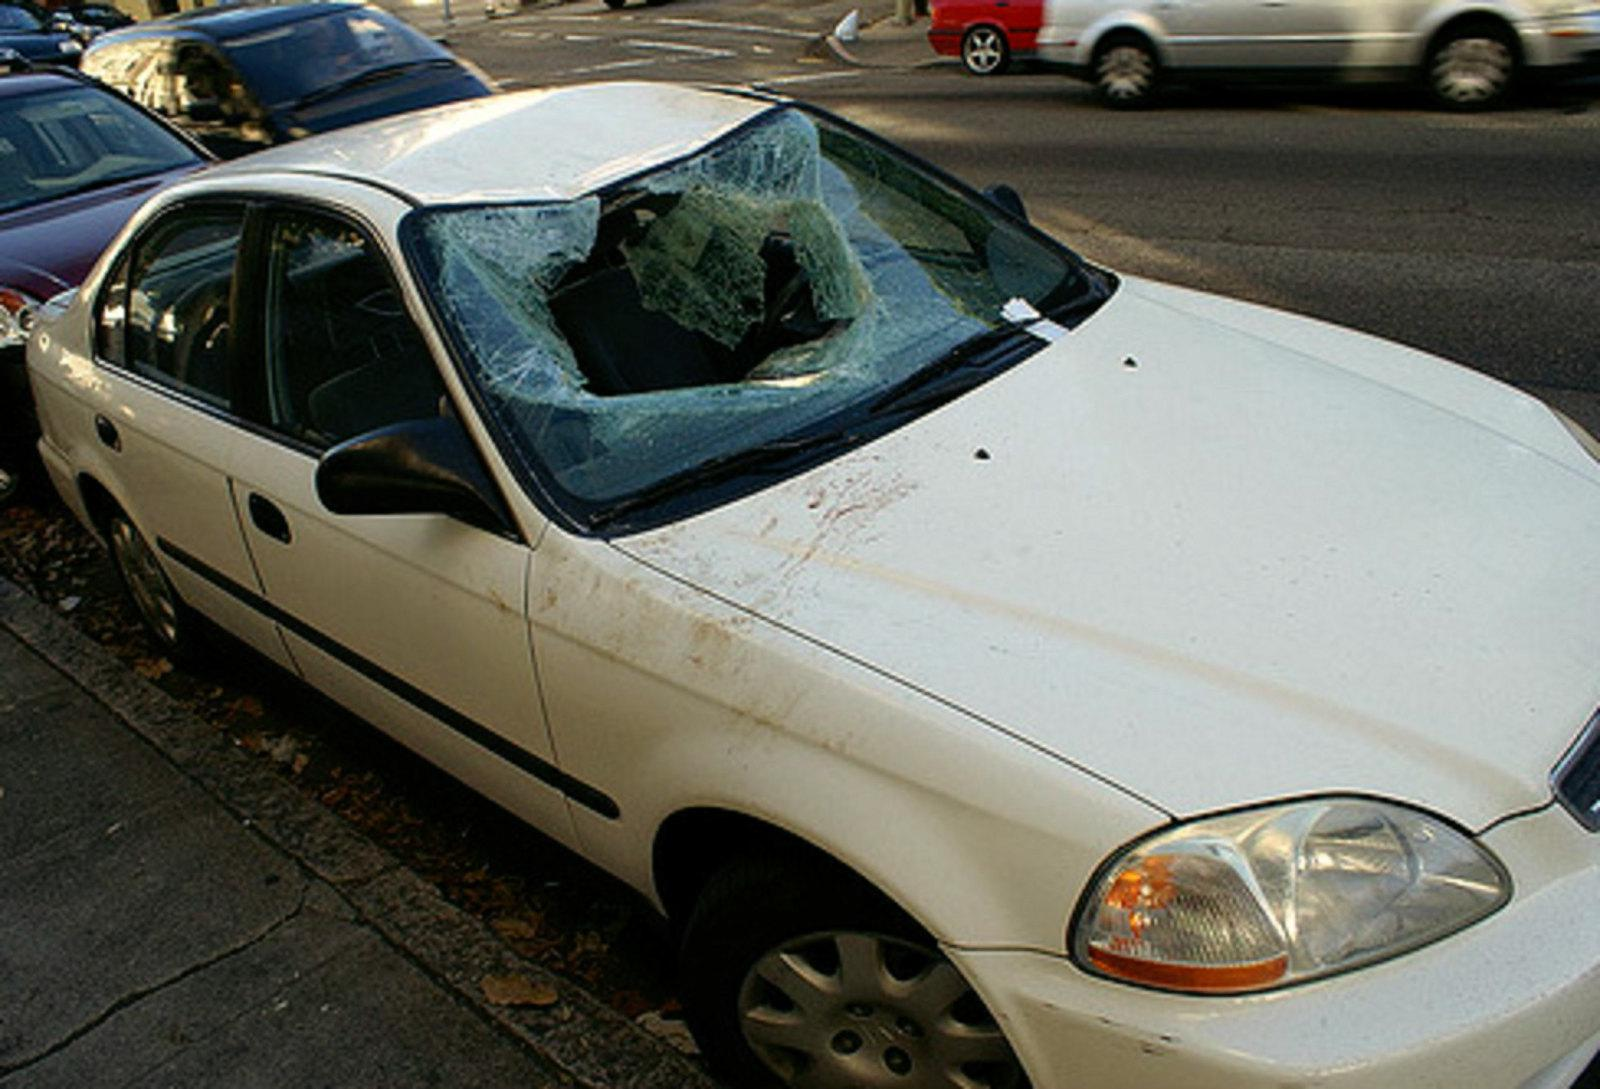Front-Windscreen-Damage: (401, 106, 1014, 489)
roof-dent: (148, 43, 820, 201)
